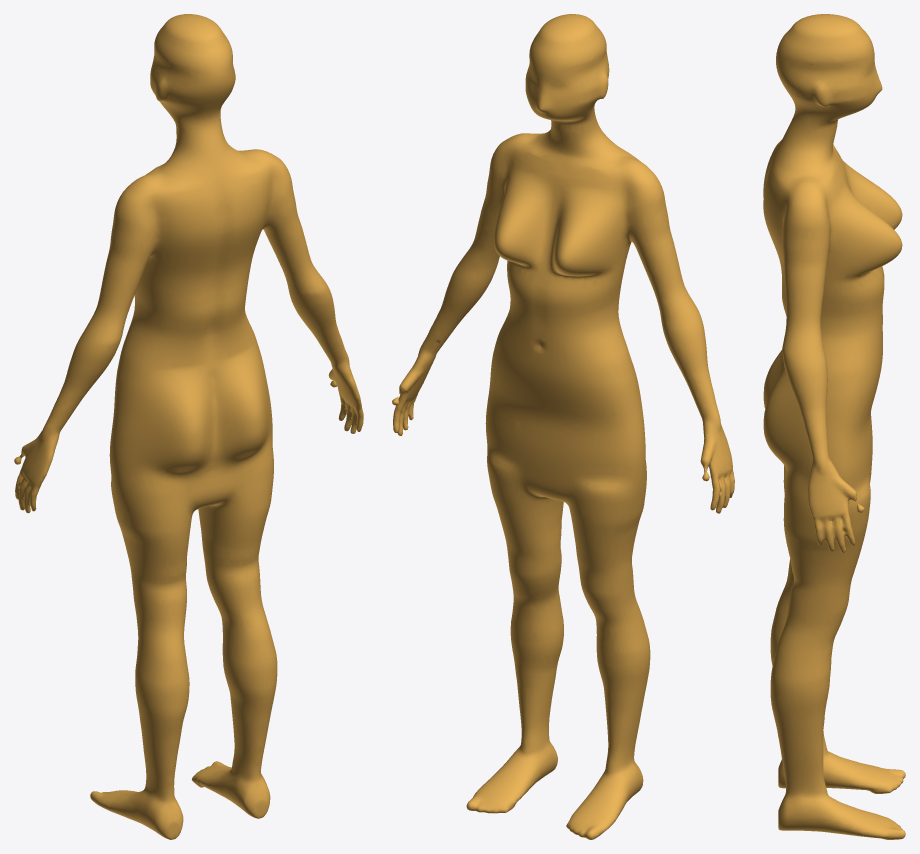
Rendered from athletic-gel-figure-fresh-build.glb.
3 renders of one model, left to right at view 1: azimuth 30°, elevation 25°; view 2: azimuth 150°, elevation 25°; view 3: azimuth 270°, elevation 25°, orthographic.
Parts seen in each view (by area): view 1: athletic; view 2: athletic; view 3: athletic.
Boxes of the visible parts, x1,y1,x2,y2 form: athletic: (14, 14, 363, 839); athletic: (392, 14, 734, 839); athletic: (763, 14, 905, 839).
Size of the model in its own units: 0.7492 by 1.7 by 0.2776.
